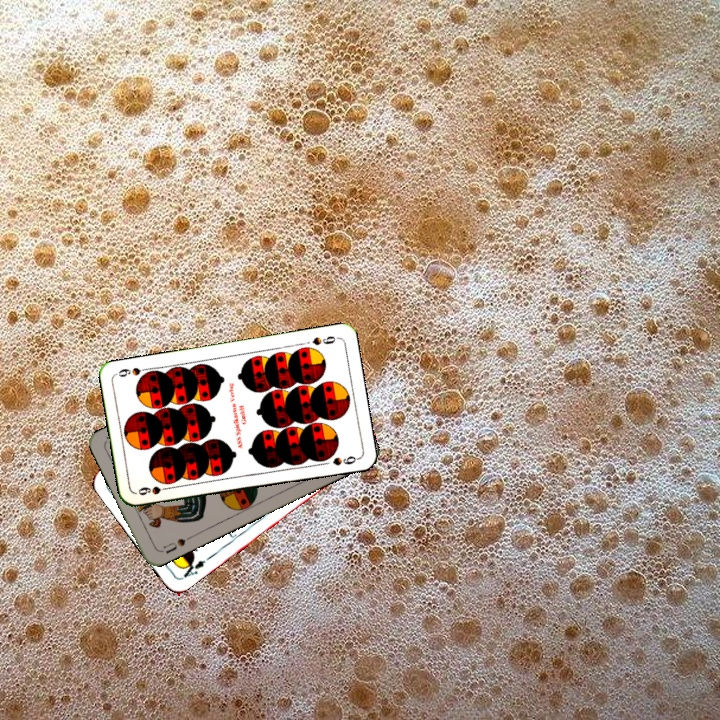EA: (177, 556, 208, 582)
S9: (134, 482, 174, 498), (308, 332, 340, 348)
SU: (157, 532, 195, 556)
